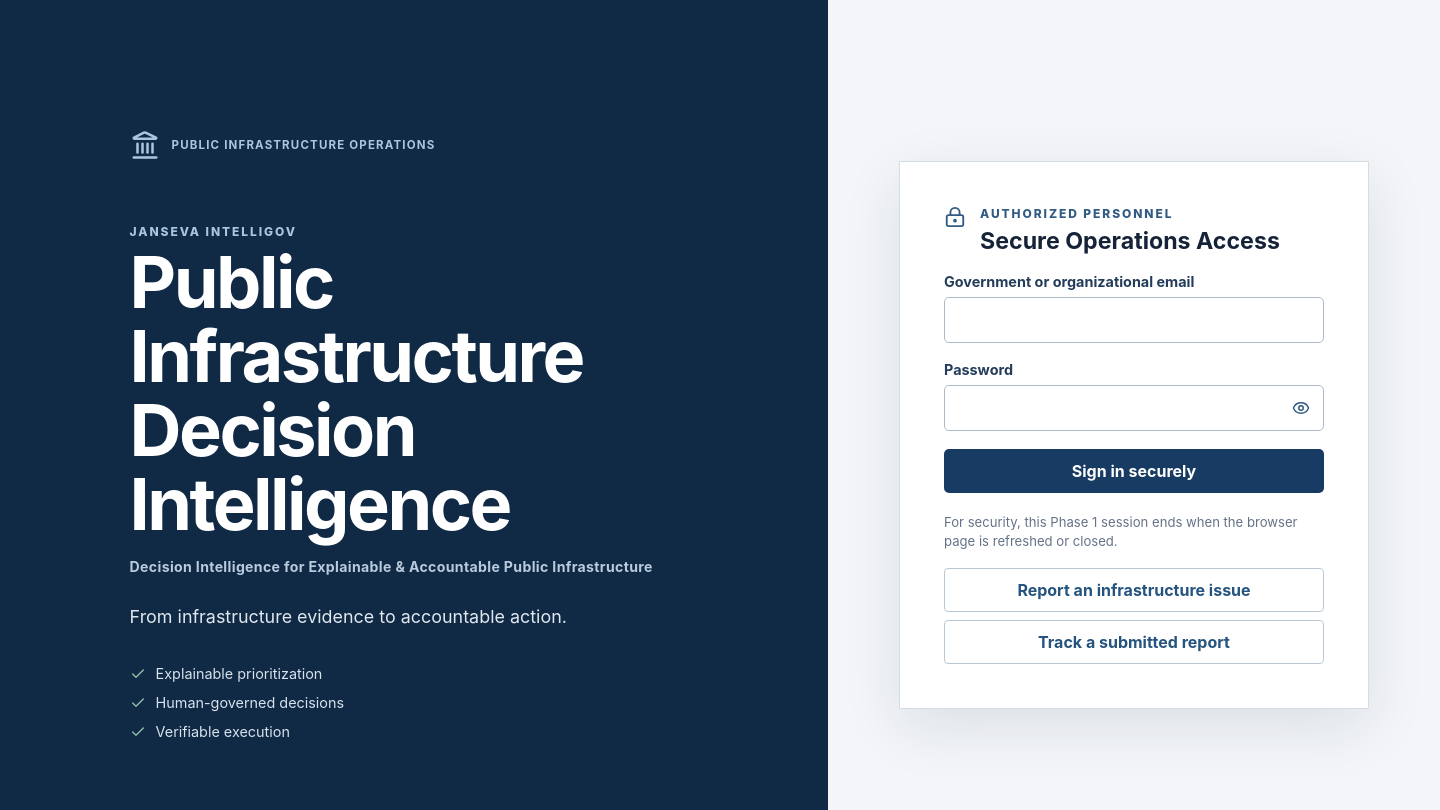
Test case: authenticated application › validates identity with auth/me, renders organization, and logs out
The width and height of the screenshot is (1440, 810).
Type "rahul@example.test" into the field labelled "Government or organizational email". click: point(1134, 320)
box: [944,297,1324,343]
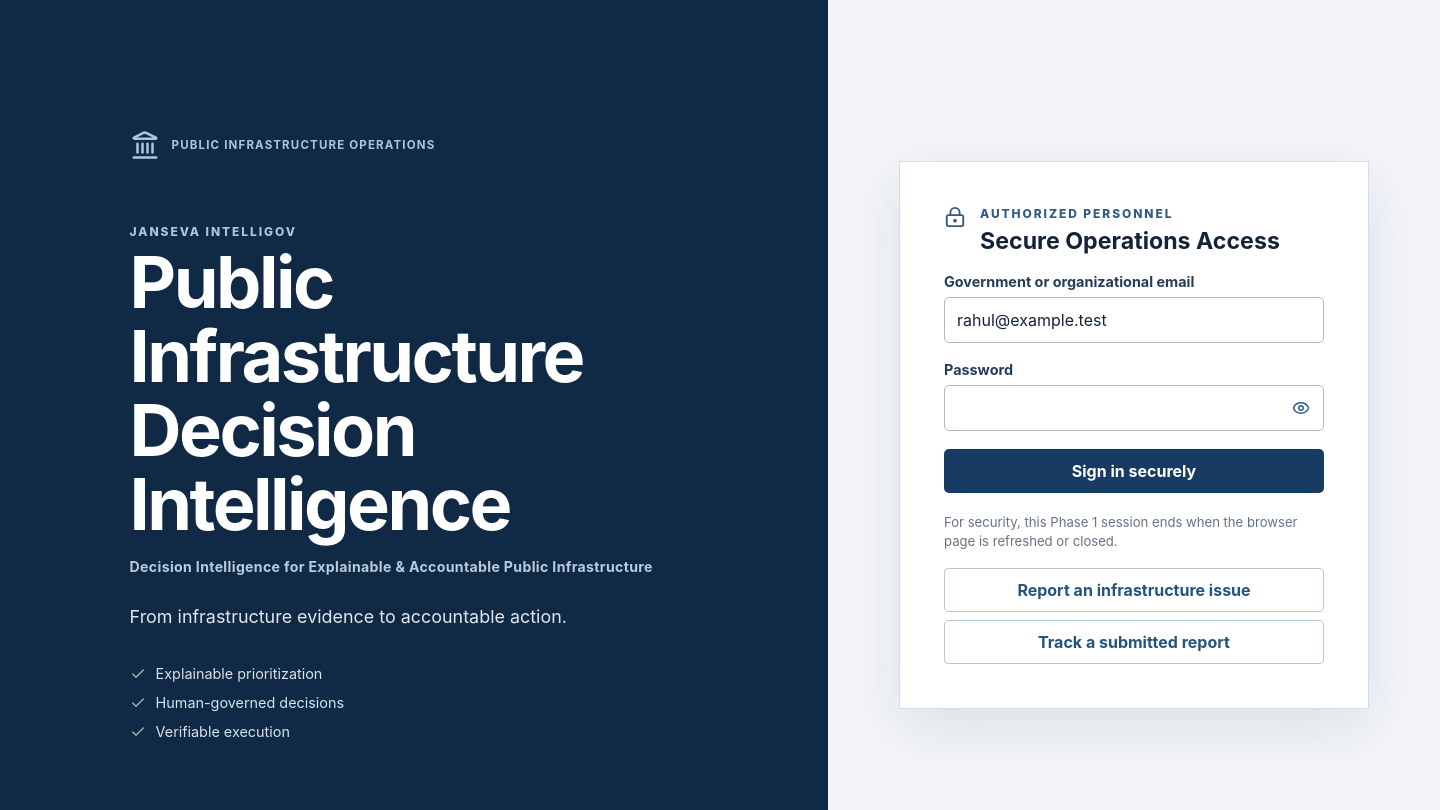
Type "password" into the password field labelled "Password". click: point(1134, 408)
box: [944,385,1324,431]
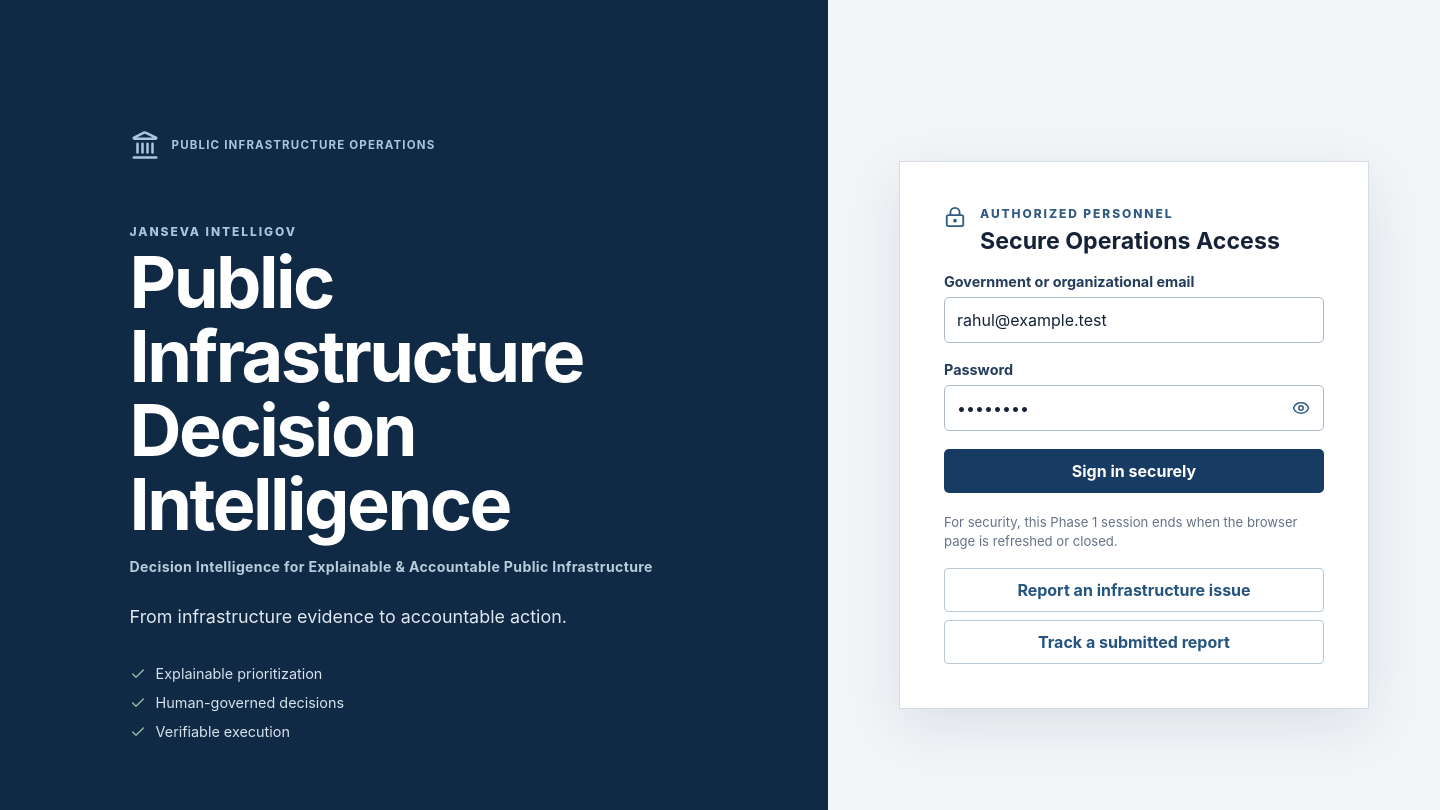
Click the button "Sign in securely". click: point(1134, 471)
box: [944,449,1324,493]
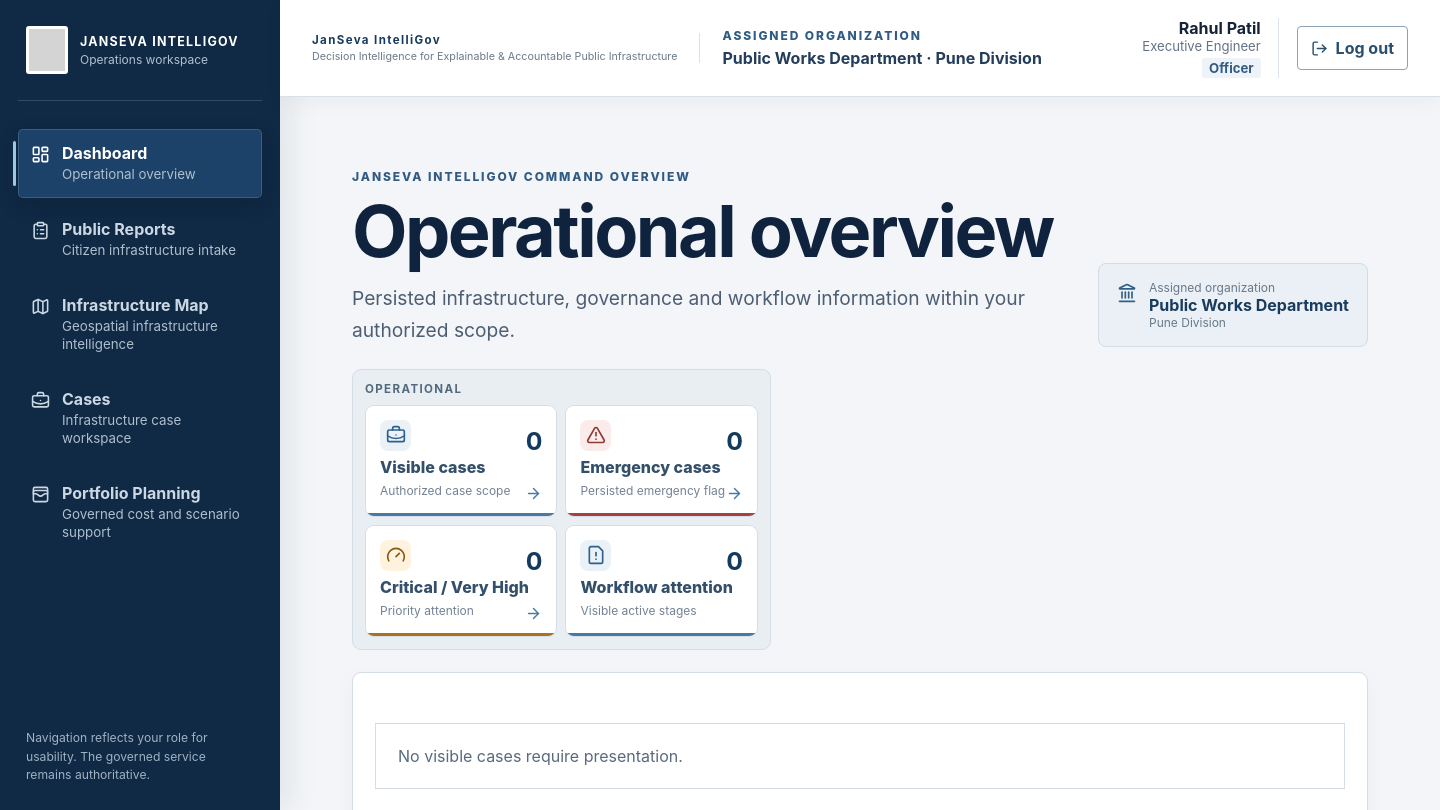
Result: the heading "Operational overview" is shown at [352,194,1070,267]
Result: the text "Rahul Patil" is shown at [1179,18,1261,38]
Result: the text "JanSeva IntelliGov" is shown at [312,33,441,47]
Click the button "Log out". click: point(1352, 48)
box: [1297,26,1408,70]
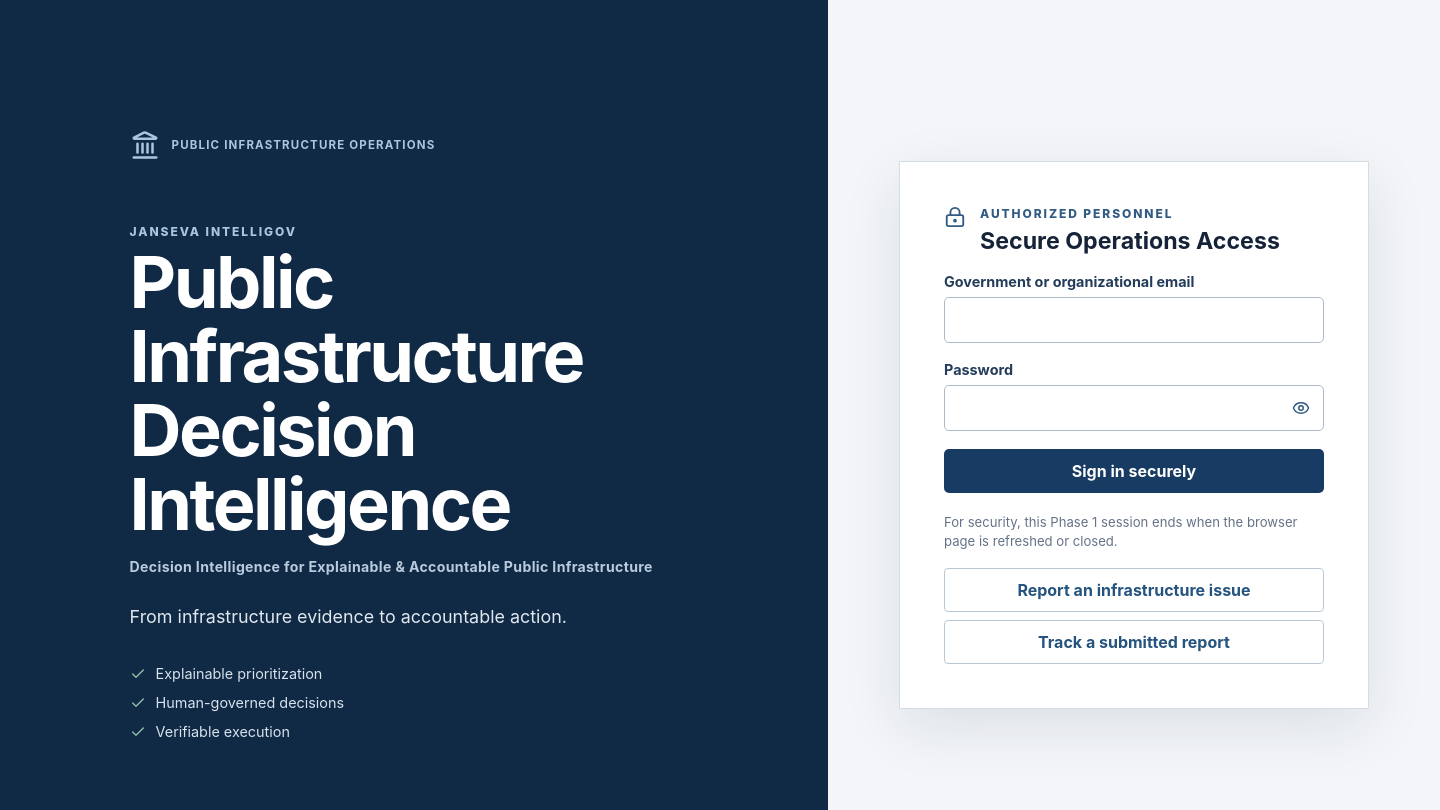
Result: the heading named "public infrastructure decision intelligence" is shown at [130,238,583,548]
